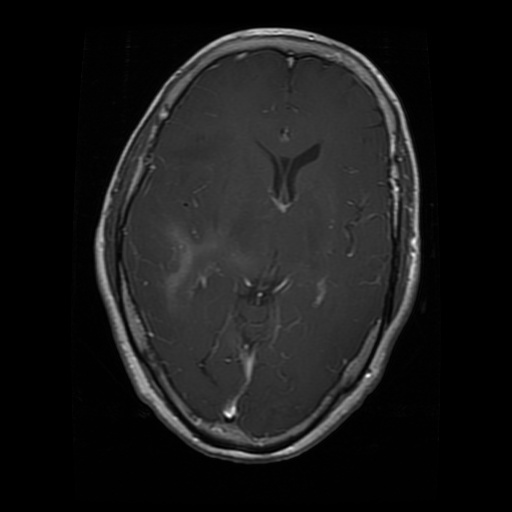glioma: (162, 221, 270, 315)
